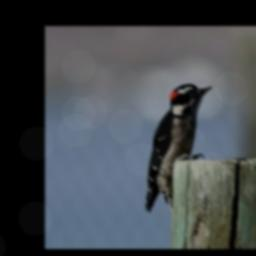Woodpecker: (144, 83, 213, 211)
